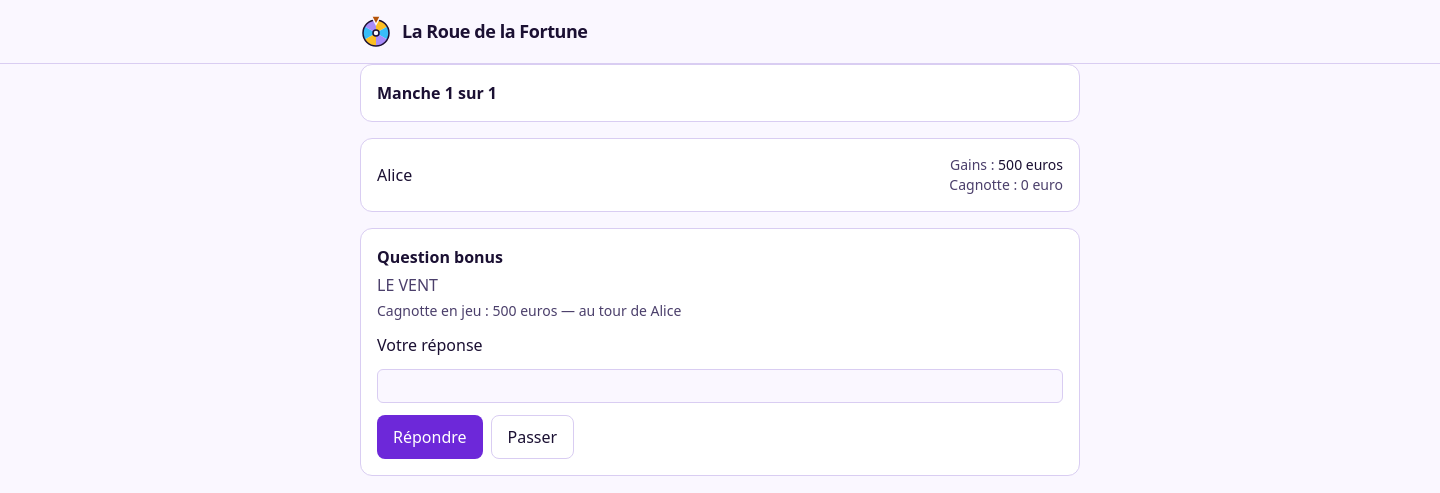
Test case: GameRoute › étape bonus › « Passer » appelle skipBonus : la partie se termine sans verdict
Click the button "Passer": [532, 437] box [490,415,574,459]
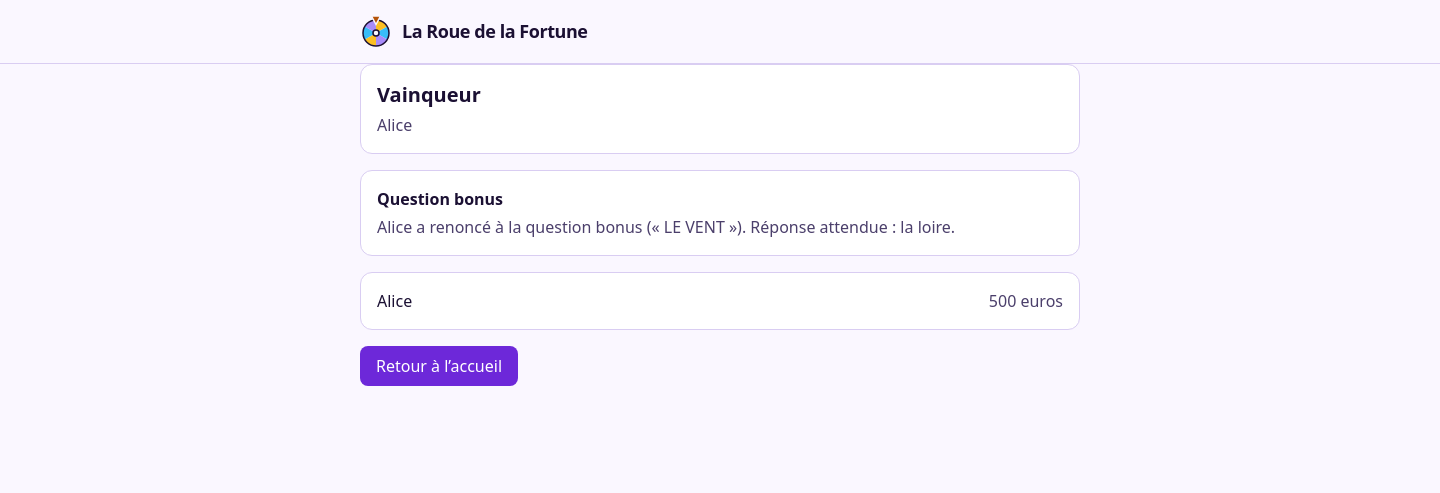
Check: the heading "Vainqueur" is shown, box [377,81,481,108]
